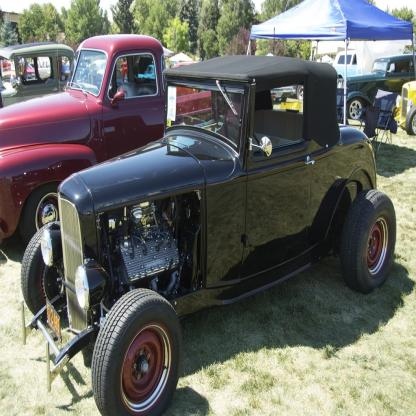Car: (1, 15, 416, 416)
